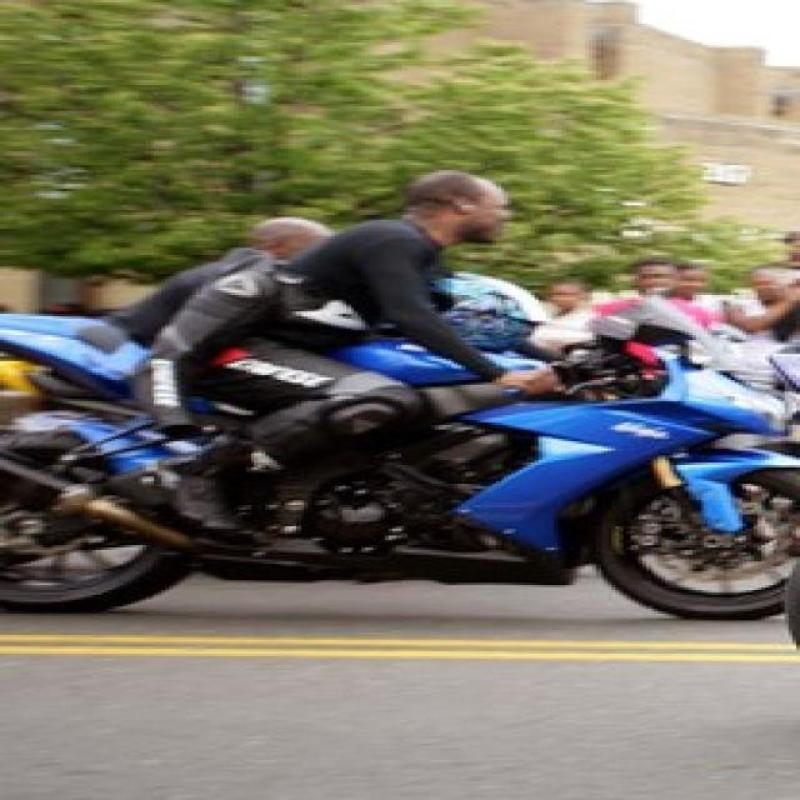nohelmet: (404, 166, 532, 266), (244, 218, 338, 277)
